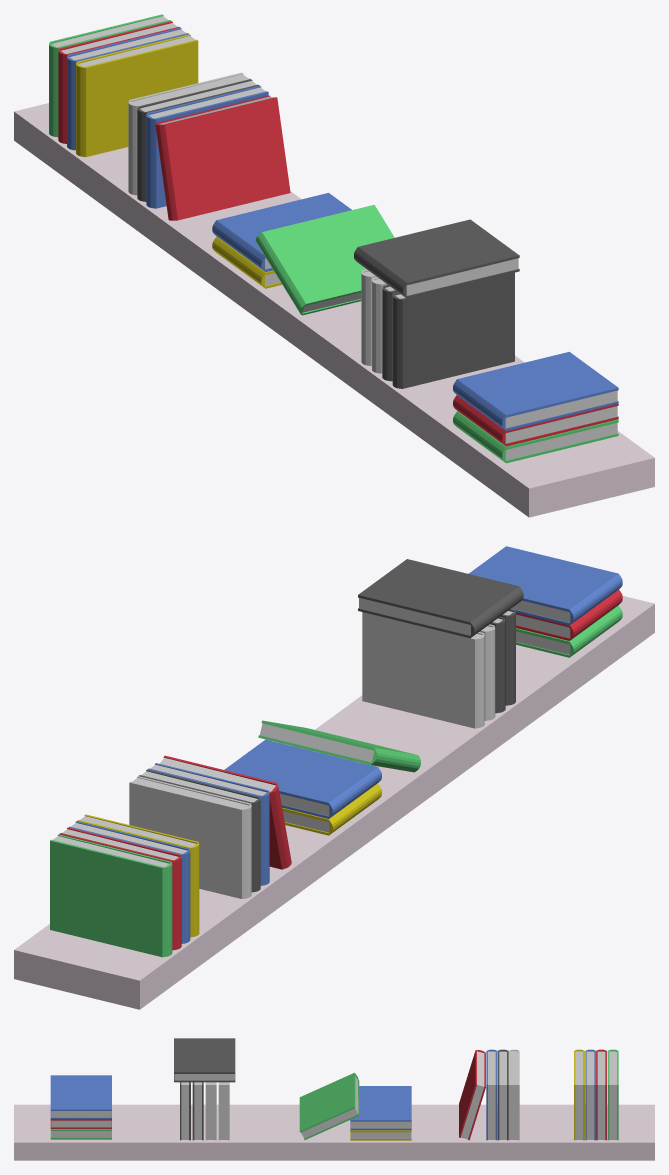
File: bookshelf.fbx
The picture shows the model from 3 angles, top to bottom: view 1: azimuth 30°, elevation 25°; view 2: azimuth 150°, elevation 25°; view 3: azimuth 270°, elevation 25°; orthographic projection. The views are drawn at different scales.
Visible parts, largest first — view 1: bookshelf, book1.007, book1.014, book1.010, book1.003, book1.015, book1.018, book1.009, book1.016, book1.006, book1.017, book1 (+8 smaller); view 2: bookshelf, book1, book1.011, book1.004, book1.015, book1.009, book1.018, book1.010, book1.007, book1.001, book1.003, book1.006 (+8 smaller); view 3: bookshelf, book1.015, book1.018, book1.010, book1.009, book1.007, book1.006, book1.005, book1.004, book1, book1.002, book1.001 (+8 smaller).
Part boxes in pixels (x1,y1,x2,y2): bookshelf: [14, 103, 654, 517]; book1.007: [155, 95, 290, 220]; book1.014: [392, 272, 514, 388]; book1.010: [255, 204, 394, 315]; book1.003: [76, 34, 198, 157]; book1.015: [354, 219, 519, 298]; book1.018: [453, 351, 618, 430]; book1.009: [212, 193, 351, 271]; book1.016: [453, 411, 618, 463]; book1.006: [146, 85, 268, 208]; book1.017: [453, 395, 618, 446]; book1: [49, 14, 170, 137]; bookshelf: [14, 596, 654, 1009]; book1: [50, 834, 172, 957]; book1.011: [362, 612, 484, 728]; book1.004: [129, 776, 251, 898]; book1.015: [358, 559, 523, 638]; book1.009: [224, 739, 381, 818]; book1.018: [468, 546, 622, 625]; book1.010: [258, 720, 420, 772]; book1.007: [159, 755, 291, 869]; book1.001: [59, 827, 181, 950]; book1.003: [77, 814, 199, 937]; book1.006: [147, 763, 269, 885]; bookshelf: [14, 1104, 654, 1160]; book1.015: [174, 1038, 235, 1082]; book1.018: [50, 1075, 111, 1119]; book1.010: [299, 1073, 359, 1139]; book1.009: [350, 1086, 411, 1130]; book1.007: [459, 1050, 485, 1140]; book1.006: [486, 1049, 497, 1140]; book1.005: [497, 1049, 508, 1140]; book1.004: [508, 1049, 519, 1140]; book1: [607, 1049, 618, 1140]; book1.002: [585, 1049, 596, 1140]; book1.001: [596, 1049, 606, 1140].
Size of the model in its own units: 65.53 by 69.12 by 464.
